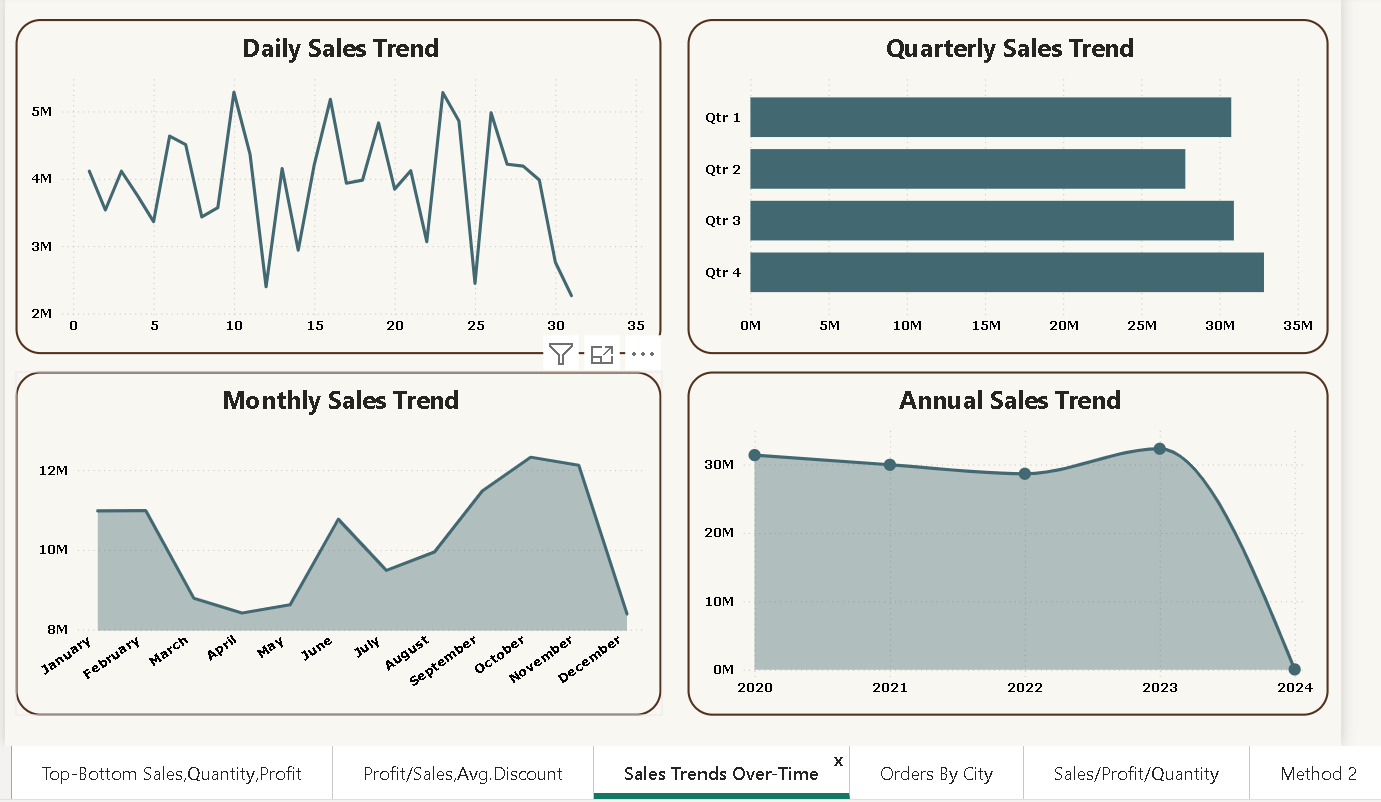

This screenshot's page, from the dashboard's own definition file:
{"tool":"powerbi","page":{"name":"Sales Trends Over-Time","canvas":[1280,720],"ordinal":2},"visuals":[{"type":"lineChart","title":"Daily Sales Trend","fields":{"Category":["Date Table 1.Date.Variation.Date Hierarchy.Day"],"Y":["Sum(Fact Table.Net Sales)"]},"box":[10.6,22.7,619.3,321],"z":0},{"type":"areaChart","title":"Monthly Sales Trend","fields":{"Y":["Sum(Fact Table.Net Sales)"],"Category":["Date Table 1.Date.Variation.Date Hierarchy.Month"]},"box":[10.6,360.4,619.3,330.1],"z":1000},{"type":"clusteredBarChart","title":"Quarterly Sales Trend","fields":{"Y":["Sum(Fact Table.Net Sales)"],"Category":["Date Table 1.Date.Variation.Date Hierarchy.Quarter"]},"box":[654.1,22.7,614.8,321],"z":2000},{"type":"areaChart","title":"Annual Sales Trend","fields":{"Y":["Sum(Fact Table.Net Sales)"],"Category":["Date Table 1.Date.Variation.Date Hierarchy.Year"]},"box":[654.1,360.4,614.8,330.1],"z":3000}]}

Visuals, with their boxes on the page's 1280x720 design canvas (x1, y1, x2, y2). These are canvas units, not pixel positions in the 1381x802 screenshot, which may show the page scaled, cropped or inside an application window:
"Daily Sales Trend" lineChart: x1=11 y1=23 x2=630 y2=344
"Monthly Sales Trend" areaChart: x1=11 y1=360 x2=630 y2=690
"Quarterly Sales Trend" clusteredBarChart: x1=654 y1=23 x2=1269 y2=344
"Annual Sales Trend" areaChart: x1=654 y1=360 x2=1269 y2=690
